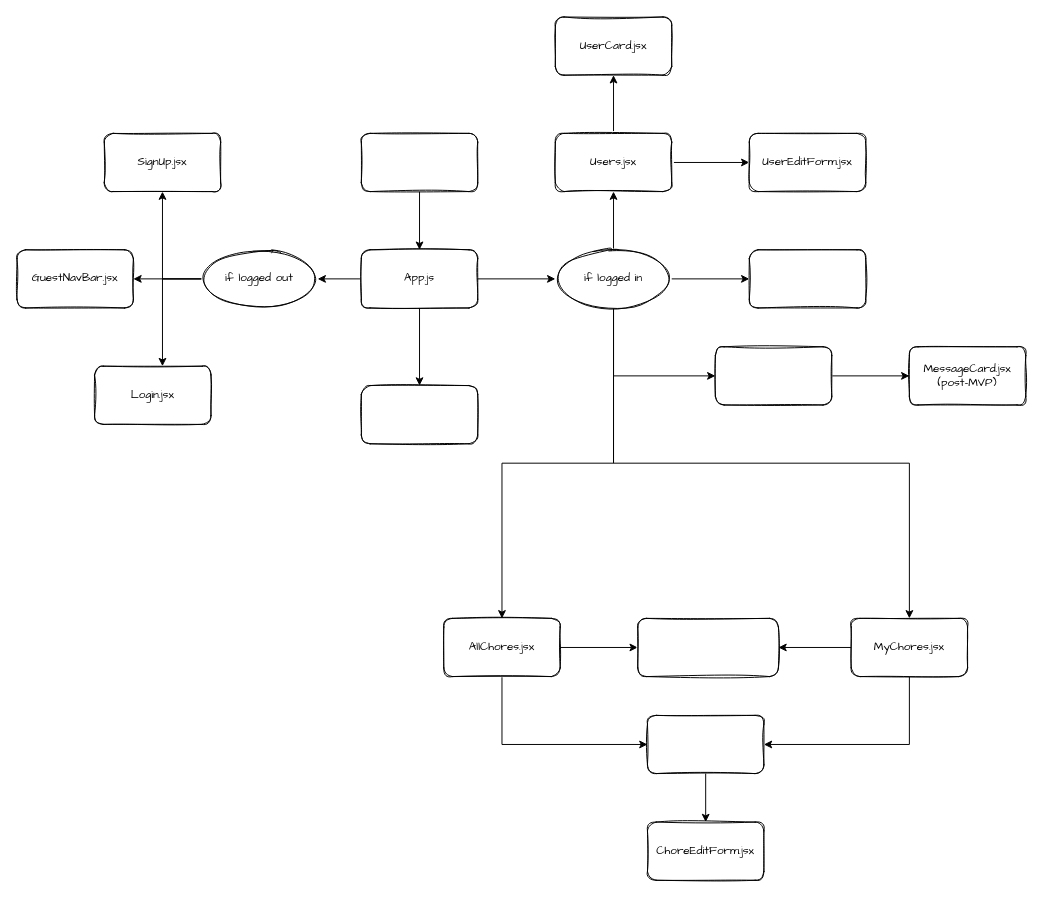
Image size: 1043x897. Some labels were removed from this diagram. The centre of each missing label's shape, as x and y in pixels:
"About.jsx" goes at [419,414].
"ChoreCard.jsx" goes at [705,744].
"ChoreCreateForm.jsx" goes at [707,647].
"index.js" goes at [419,162].
"MessageBoard.jsx (post-MVP)" goes at [773,375].
"UserNavBar.jsx" goes at [807,278].
